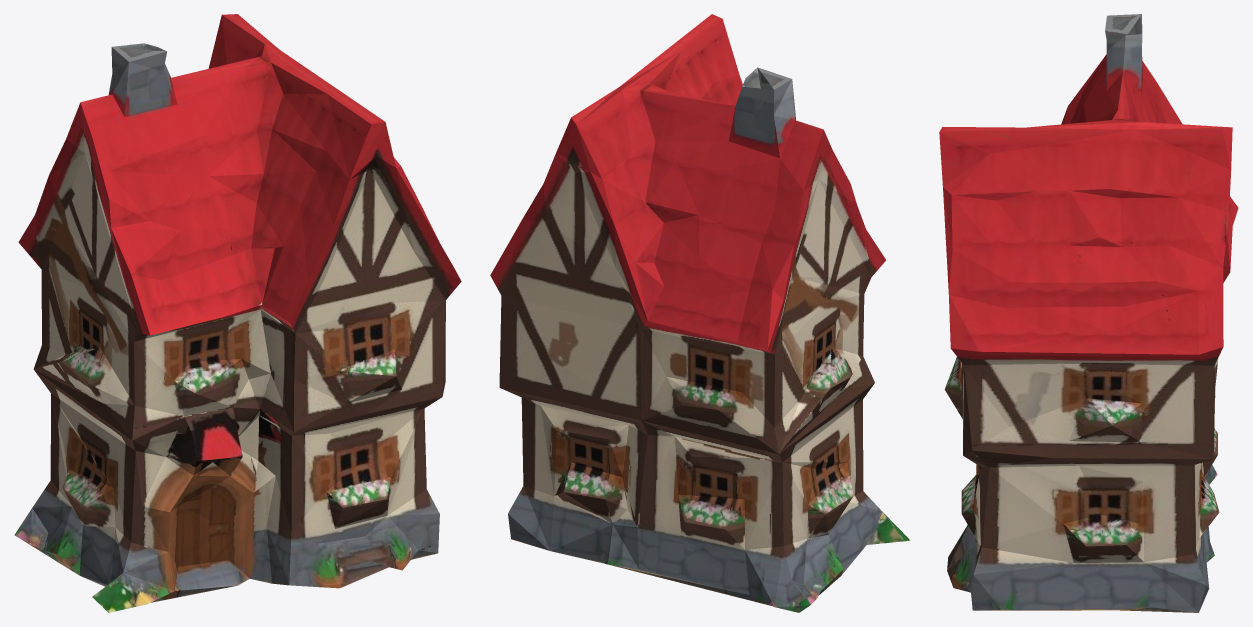
Rendered from house_terra_6_proxy600.glb.
The picture shows the model from 3 angles, left to right: view 1: azimuth 30°, elevation 25°; view 2: azimuth 150°, elevation 25°; view 3: azimuth 270°, elevation 25°; orthographic projection. The views are drawn at different scales.
Visible parts, largest first — view 1: proxy600; view 2: proxy600; view 3: proxy600.
Boxes of the visible parts, <box> form: proxy600: <box>14,14,461,612</box>; proxy600: <box>490,14,910,612</box>; proxy600: <box>939,14,1238,612</box>.
Bounding box in the file's own units: 1.47 × 2.08 × 1.16.
1 material, 1 textured.
